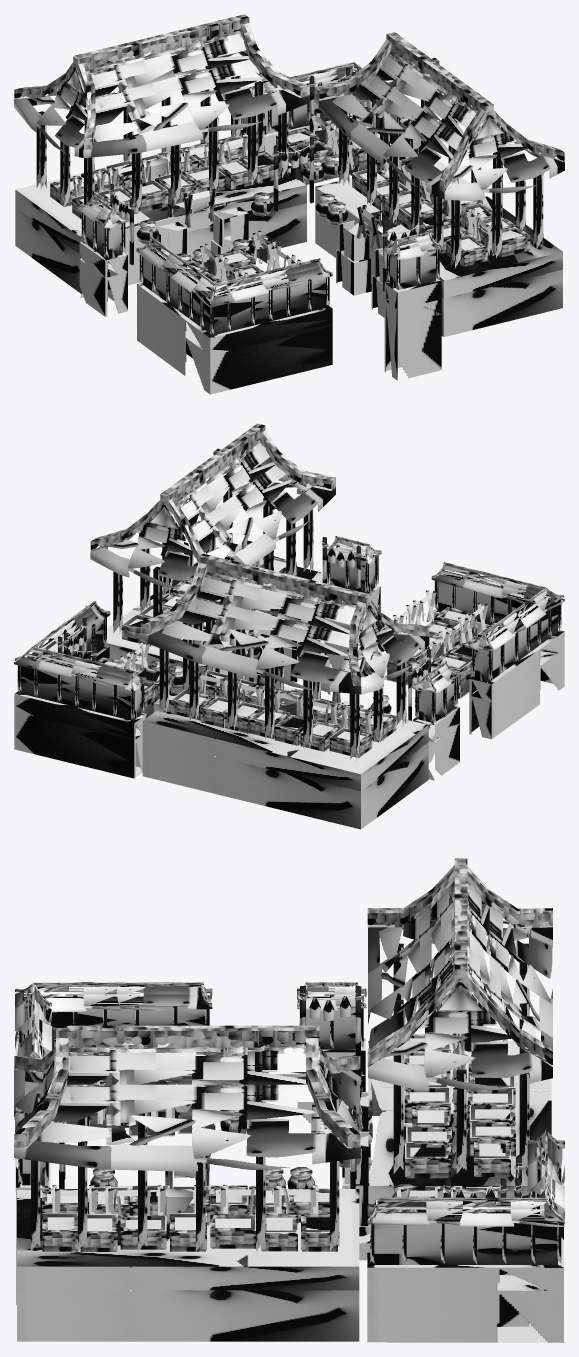
File: market.dae
The picture shows the model from 3 angles, top to bottom: view 1: azimuth 30°, elevation 25°; view 2: azimuth 150°, elevation 25°; view 3: azimuth 270°, elevation 25°; orthographic projection. The views are drawn at different scales.
Visible parts, largest first — view 1: market; view 2: market; view 3: market.
Boxes of the visible parts, bbox=[...] form: market: bbox=[14, 14, 564, 394]; market: bbox=[14, 423, 564, 829]; market: bbox=[14, 858, 564, 1342].
Size of the model in its own units: 25.49 by 25.7 by 16.35.
